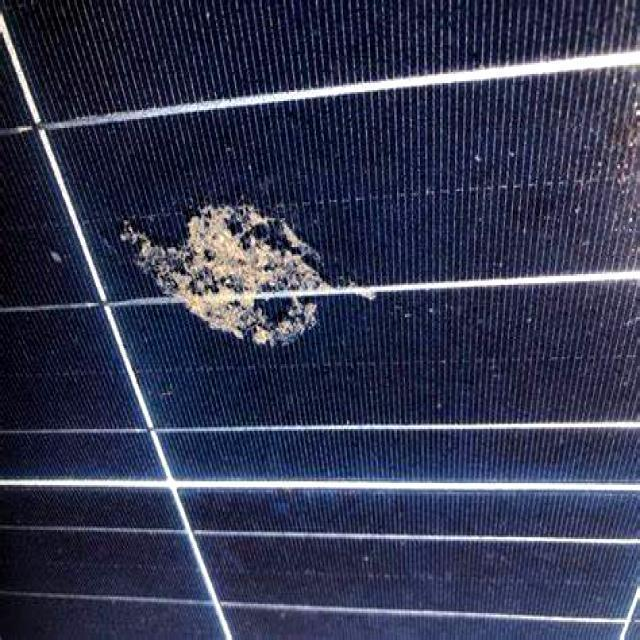soiled: (48, 108, 638, 418)
